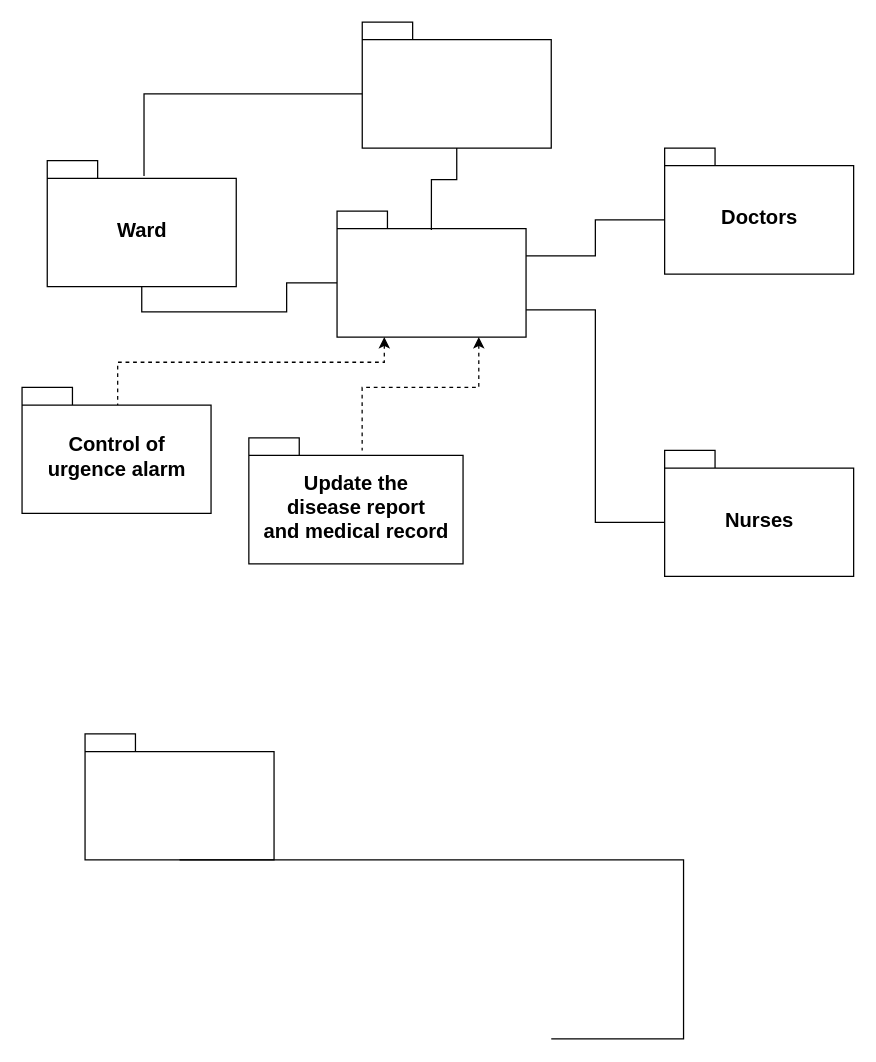
This 876x1062 diagram has some shape labels left out. Each missing label, with the box of its shape:
Central Office: (336, 210, 526, 337)
Patients: (361, 21, 551, 148)
Training Model: (84, 733, 274, 860)
